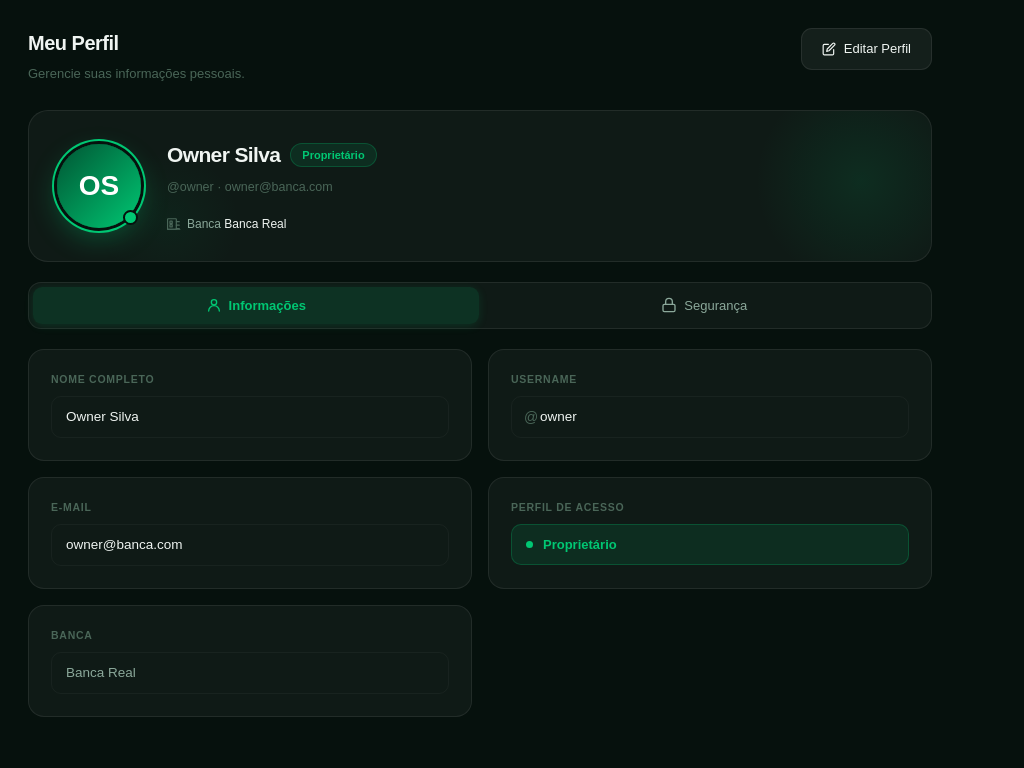
Test: PerfilPage › conflito de versão (409): exibe mensagem, refaz GET /api/auth/me e mantém o modo de edição para nova tentativa
Expected: the field showing "Owner Silva" is shown, [51,396,449,438]
Click the button "Editar Perfil" at (866, 49), box [801,28,932,70]
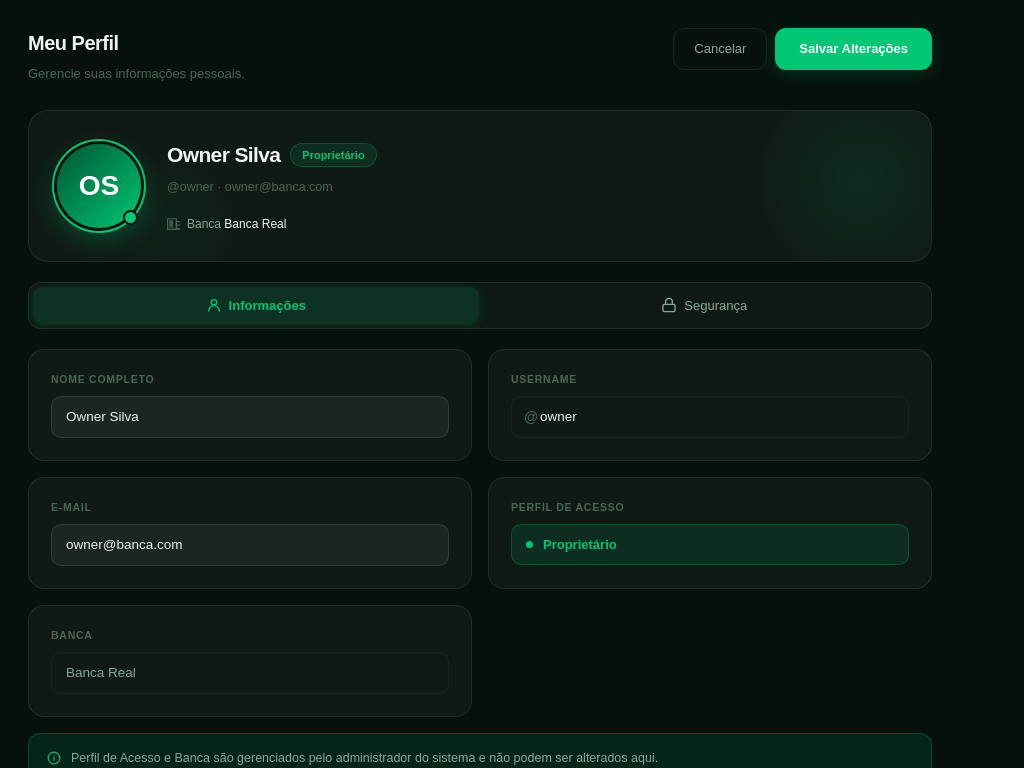
Replace the text in the field showing "Owner Silva" with "Nome Concorrente" at (250, 417), box [51,396,449,438]
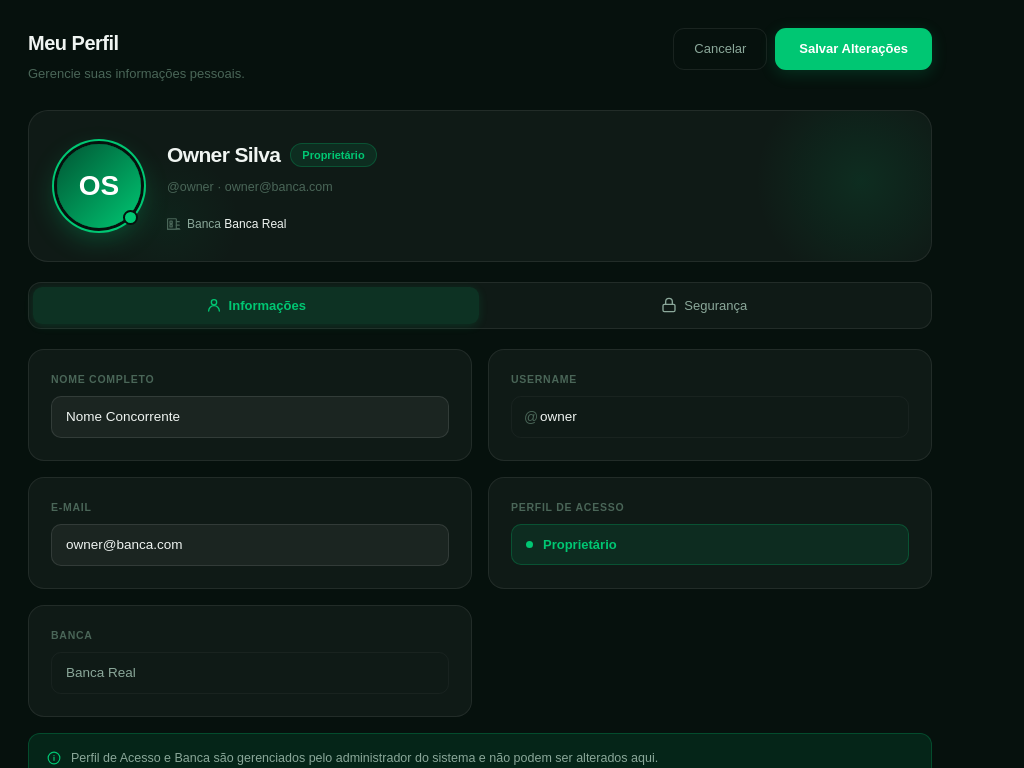
Click the button "Salvar Alterações" at (854, 49), box [775,28,932,70]
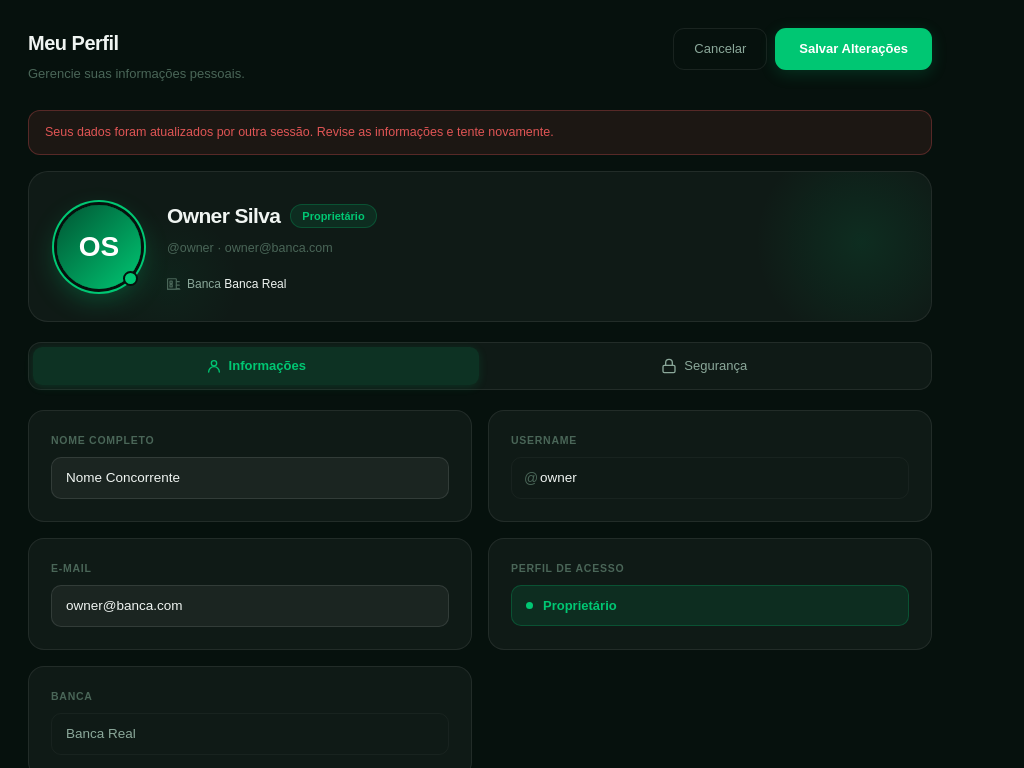
Now the button "Salvar Alterações" is shown, box [775,28,932,70]
Now the message shows "atualizados por outra sessão", box [45,125,554,139]
